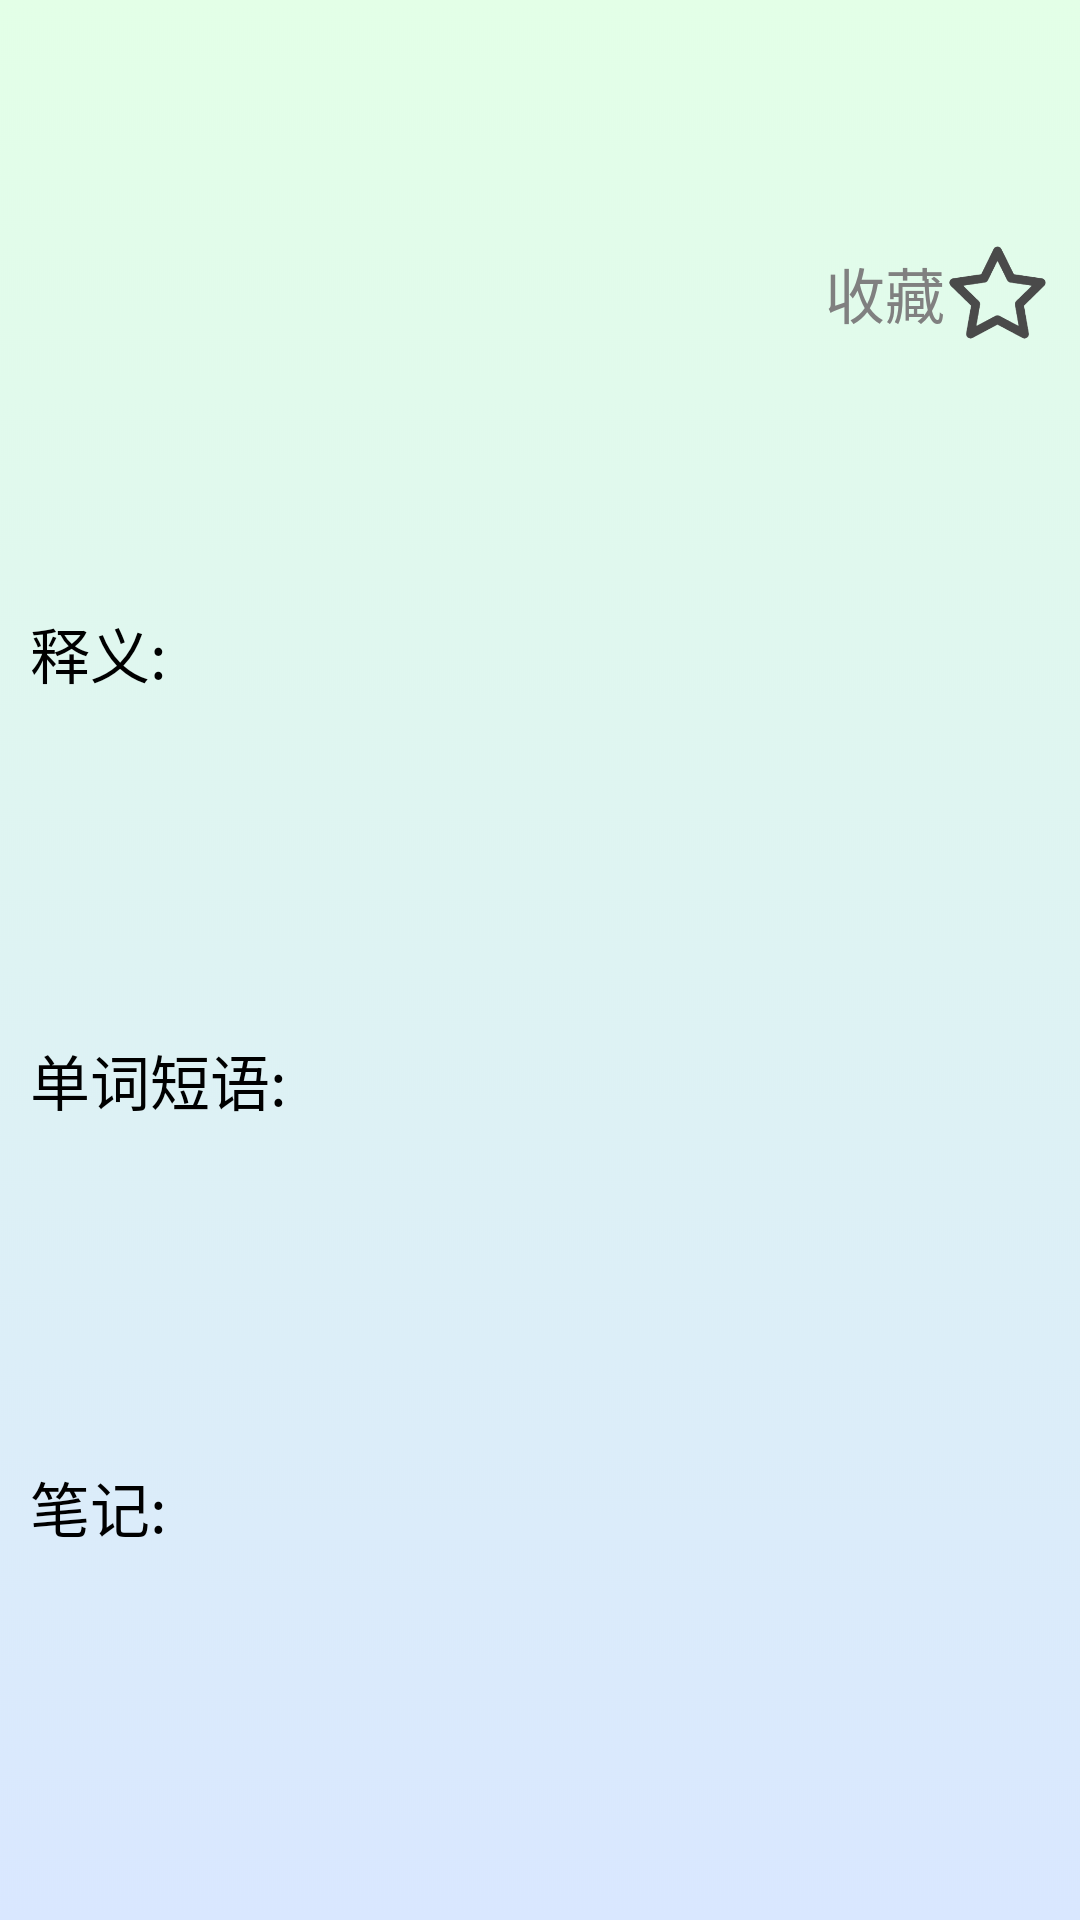

Named icons in this screenshot (1080w x 1920h) and their bounding boxes, Rect(x1, y1, x2, y2):
star: Rect(949, 246, 1046, 339)
